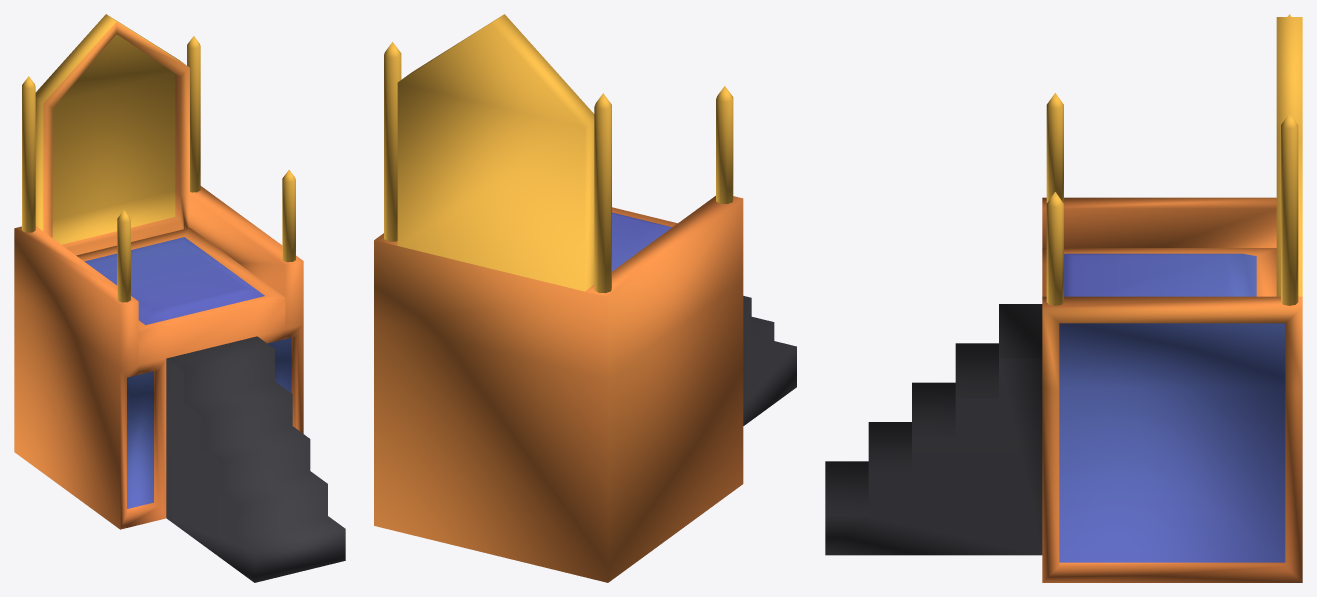
File: throne.glb
The picture shows the model from 3 angles, left to right: view 1: azimuth 30°, elevation 25°; view 2: azimuth 150°, elevation 25°; view 3: azimuth 270°, elevation 25°; orthographic projection. The views are drawn at different scales.
Parts seen in each view (by area): view 1: Cube; view 2: Cube; view 3: Cube.
Part boxes in pixels (x1,y1,x2,y2): Cube: (14, 14, 345, 582); Cube: (374, 14, 796, 582); Cube: (825, 14, 1302, 582).
Size of the model in its own units: 6 by 13 by 11.
1 material, 1 textured.
